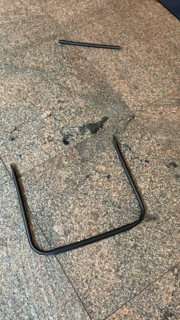C pipe: (8, 132, 150, 259)
i pipe: (57, 39, 122, 54)
